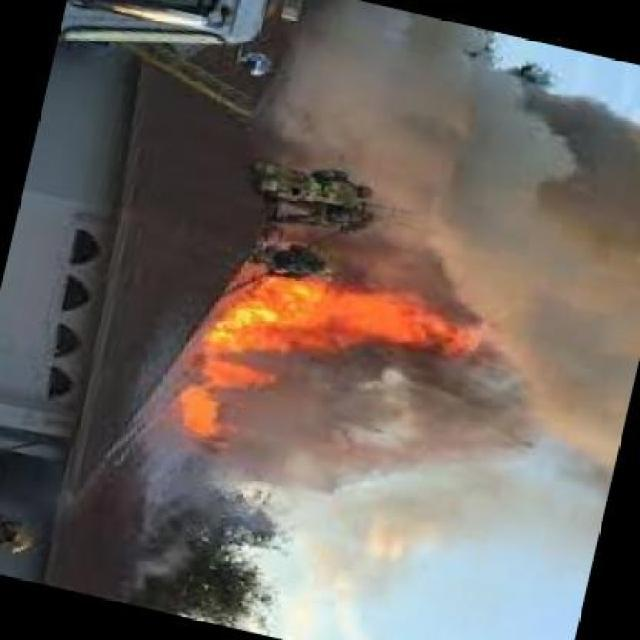Fire: (208, 264, 476, 362), (166, 358, 268, 444)
Smoke: (474, 68, 630, 456), (274, 2, 471, 255), (273, 375, 516, 510)
